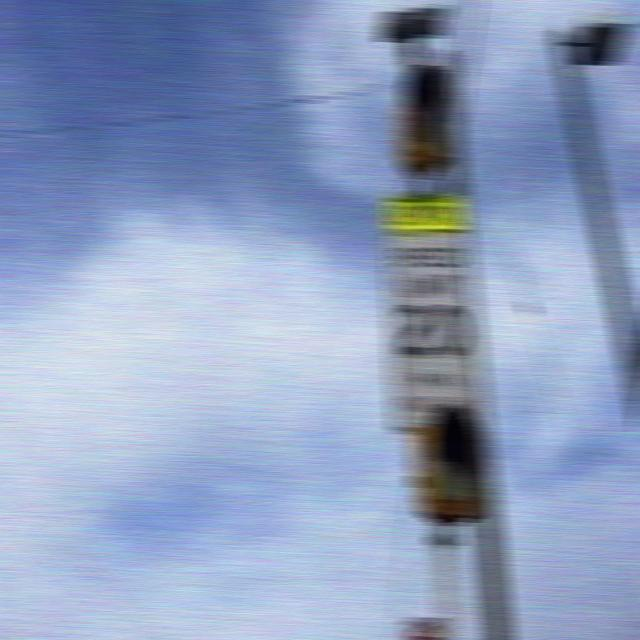speedLimit20: (384, 230, 480, 360)
